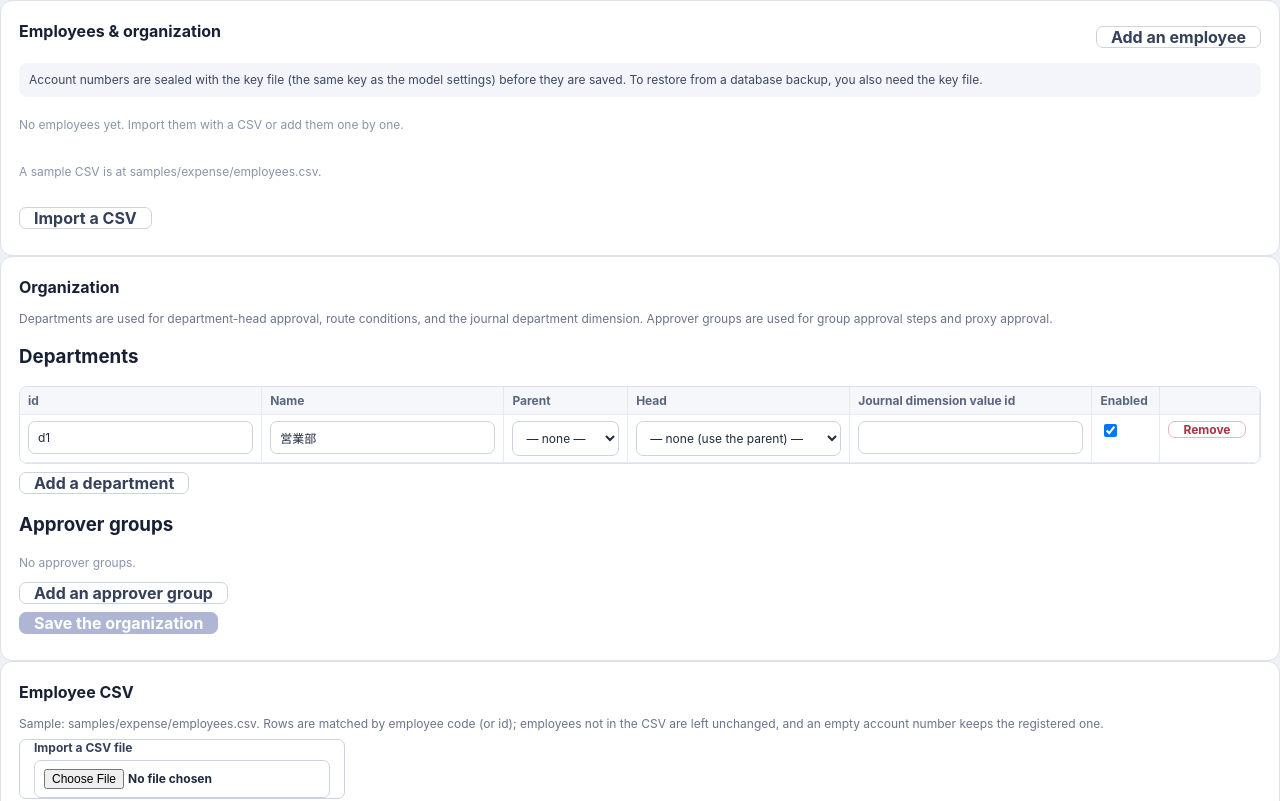
Test: EmployeesLedger › 正常: 新規登録は口座番号を送り、ハイフン・空白を外したことを見せ、保存後に変換後の名義と点検を見せる
This screenshot has width=1280, height=801.
Expected: the text "No employees yet. Import them with a CSV or add them one by one." is shown, top-left (19, 117), bottom-right (404, 132)
Click the button "Add an employee" at (1178, 37), box top-left (1096, 26), bottom-right (1261, 48)
(page scrolled)
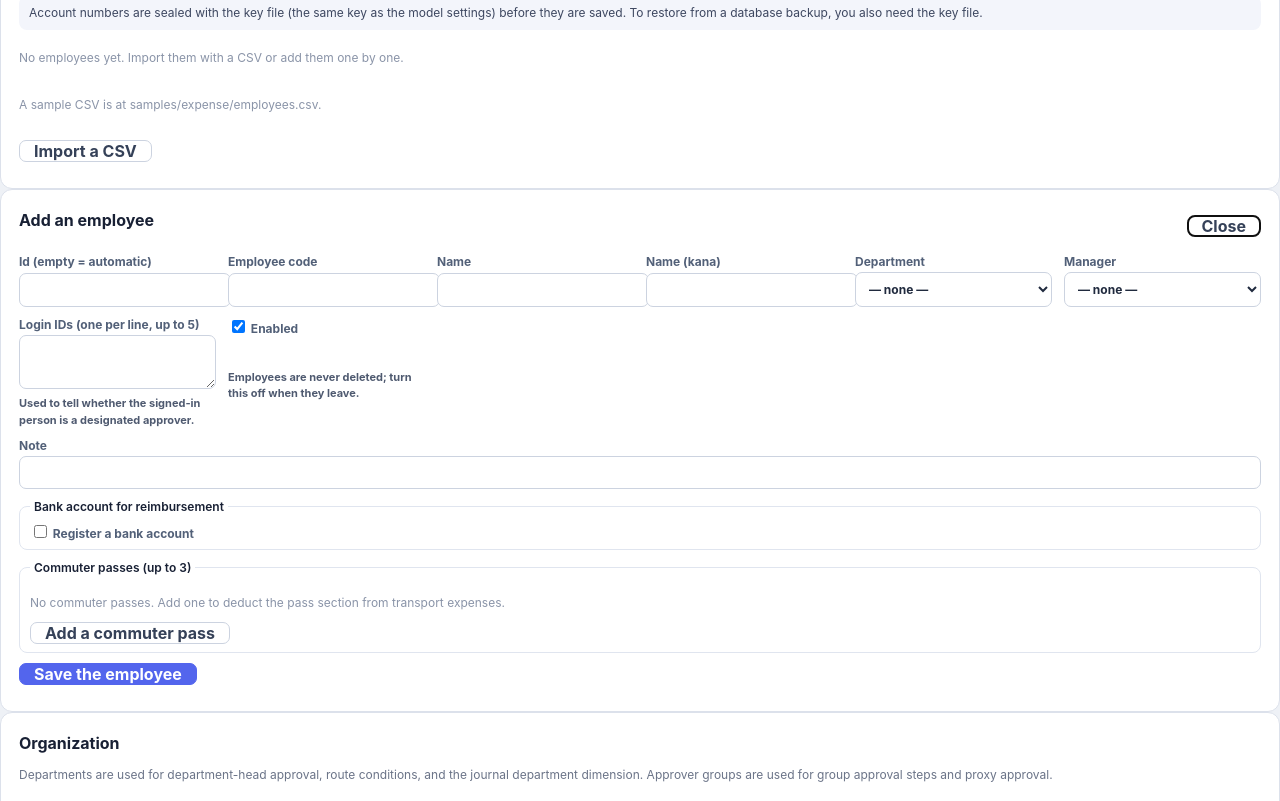
Type "テスト太郎" into the field labelled "Name" at (543, 290), box top-left (437, 273), bottom-right (649, 307)
Click the checkbox labelled "Register a bank account" at (40, 532), box top-left (34, 525), bottom-right (47, 538)
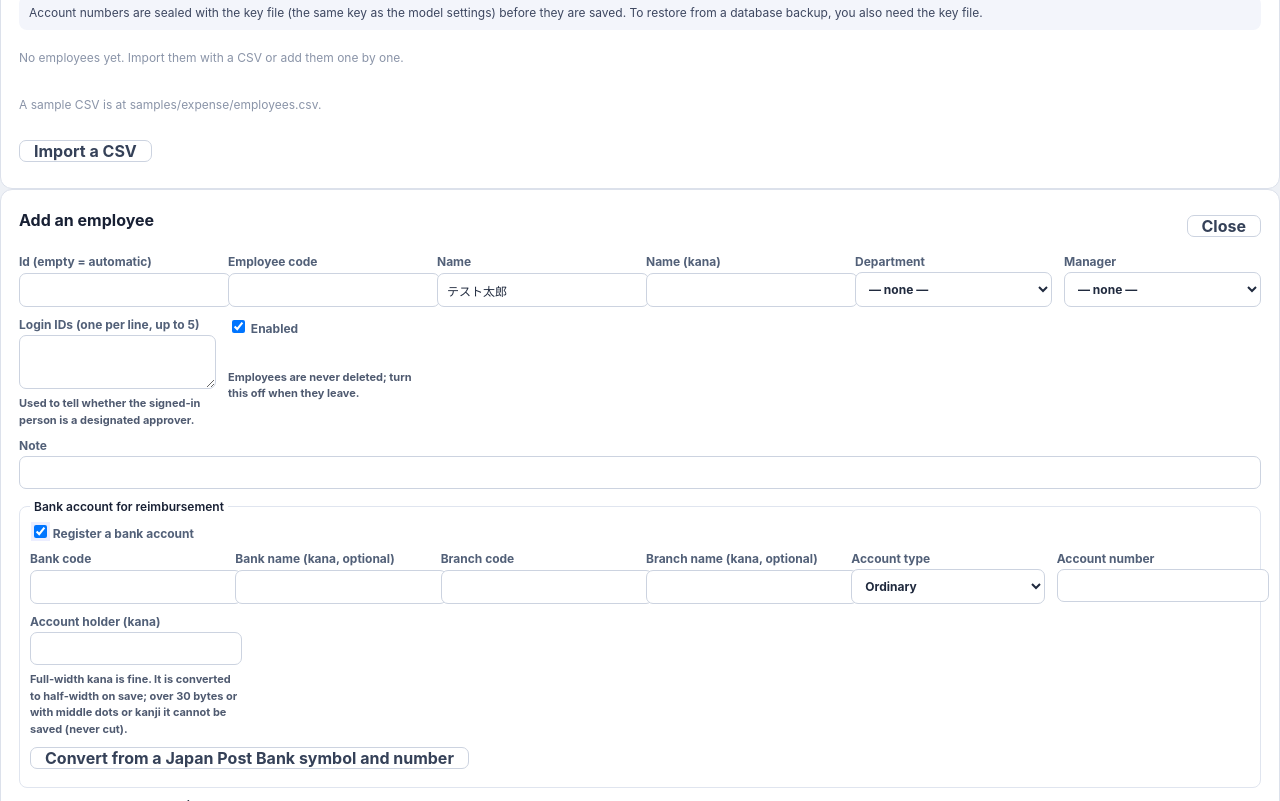
Type "0001" into the field labelled "Bank code" at (136, 587), box top-left (30, 570), bottom-right (242, 604)
Type "001" into the field labelled "Branch code" at (547, 587), box top-left (441, 570), bottom-right (653, 604)
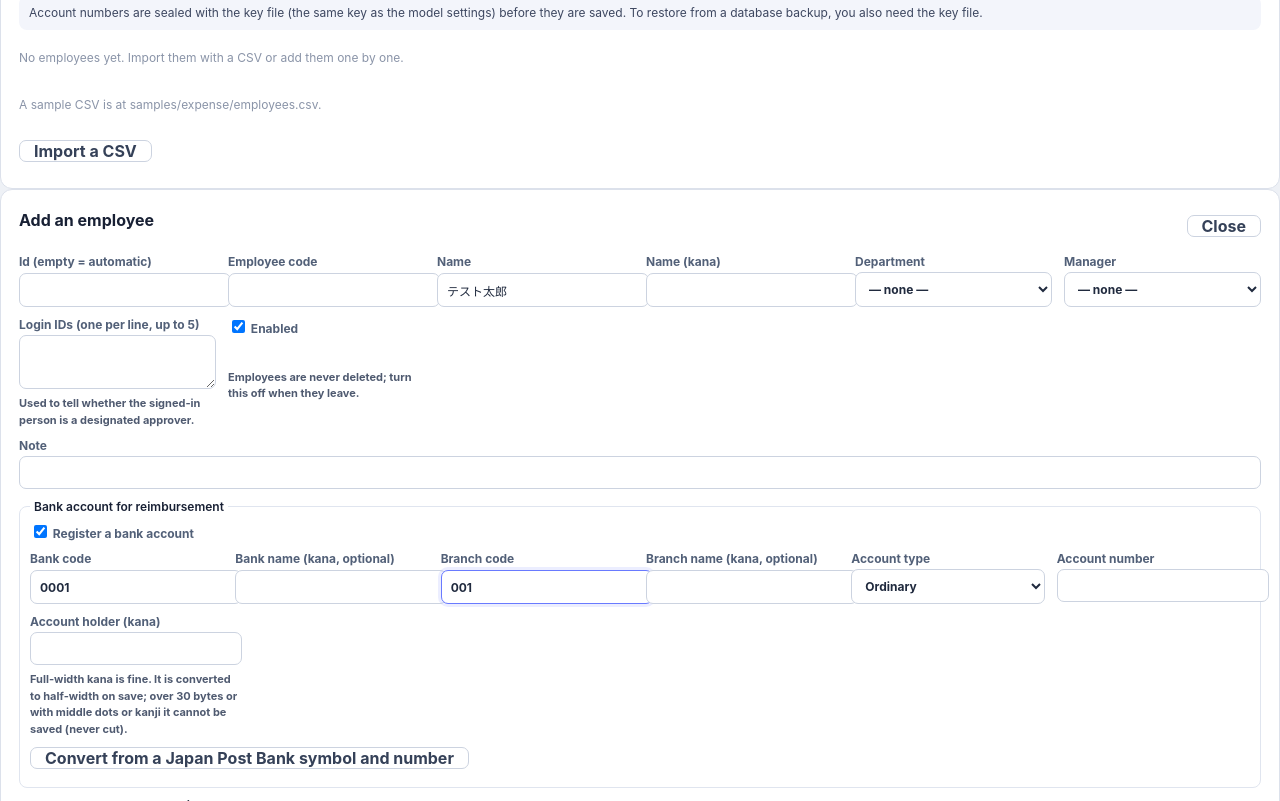
Type "123-4567" into the field labelled "Account number" at (1163, 586), box top-left (1057, 569), bottom-right (1269, 602)
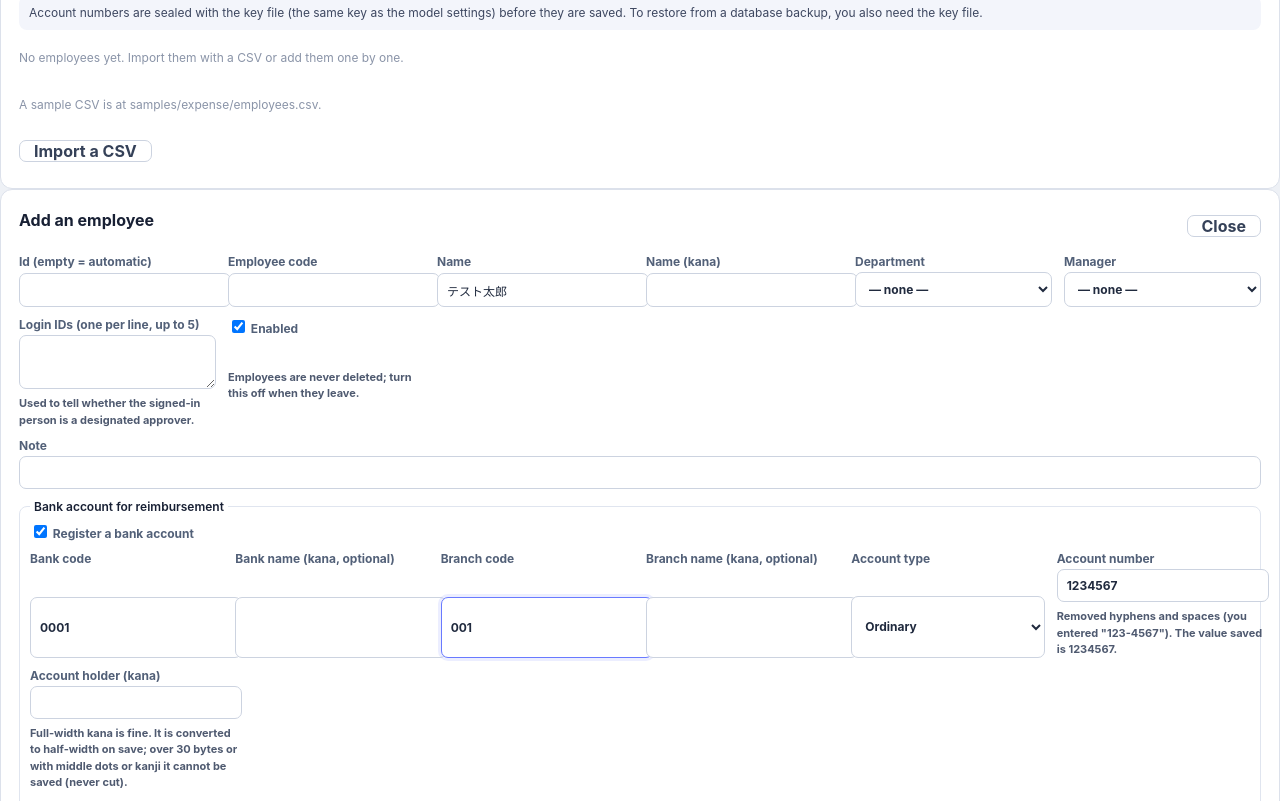
Result: the field labelled "Account number" holds "1234567" at top-left (1057, 569), bottom-right (1269, 602)
Result: the text "Removed hyphens and spaces (you entered \"123-4567\"). The value saved is 1234567." is shown at top-left (1057, 608), bottom-right (1269, 658)
Type "テスト タロウ" into the field labelled "Account holder (kana)" at (136, 702), box top-left (30, 686), bottom-right (242, 718)
(page scrolled)
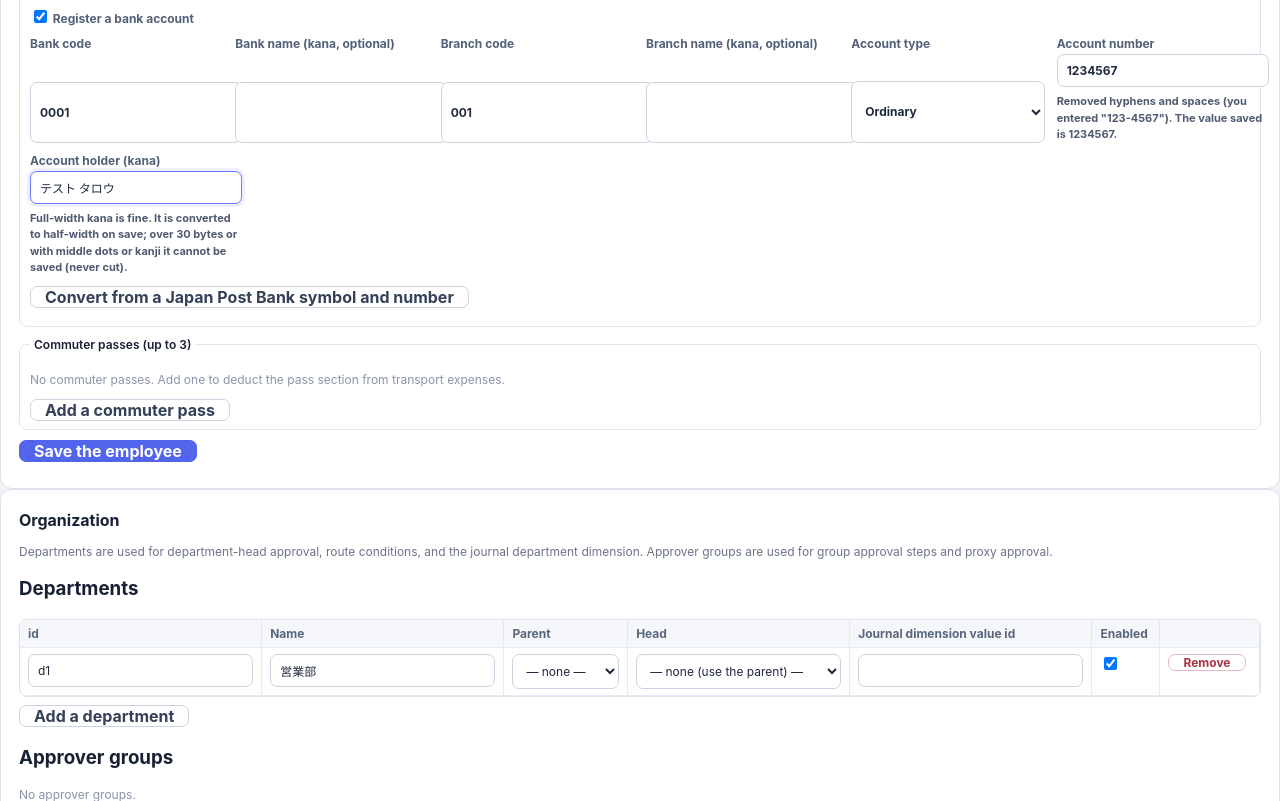
Click the button "Save the employee" at (108, 450), box top-left (19, 440), bottom-right (197, 462)
(page scrolled)
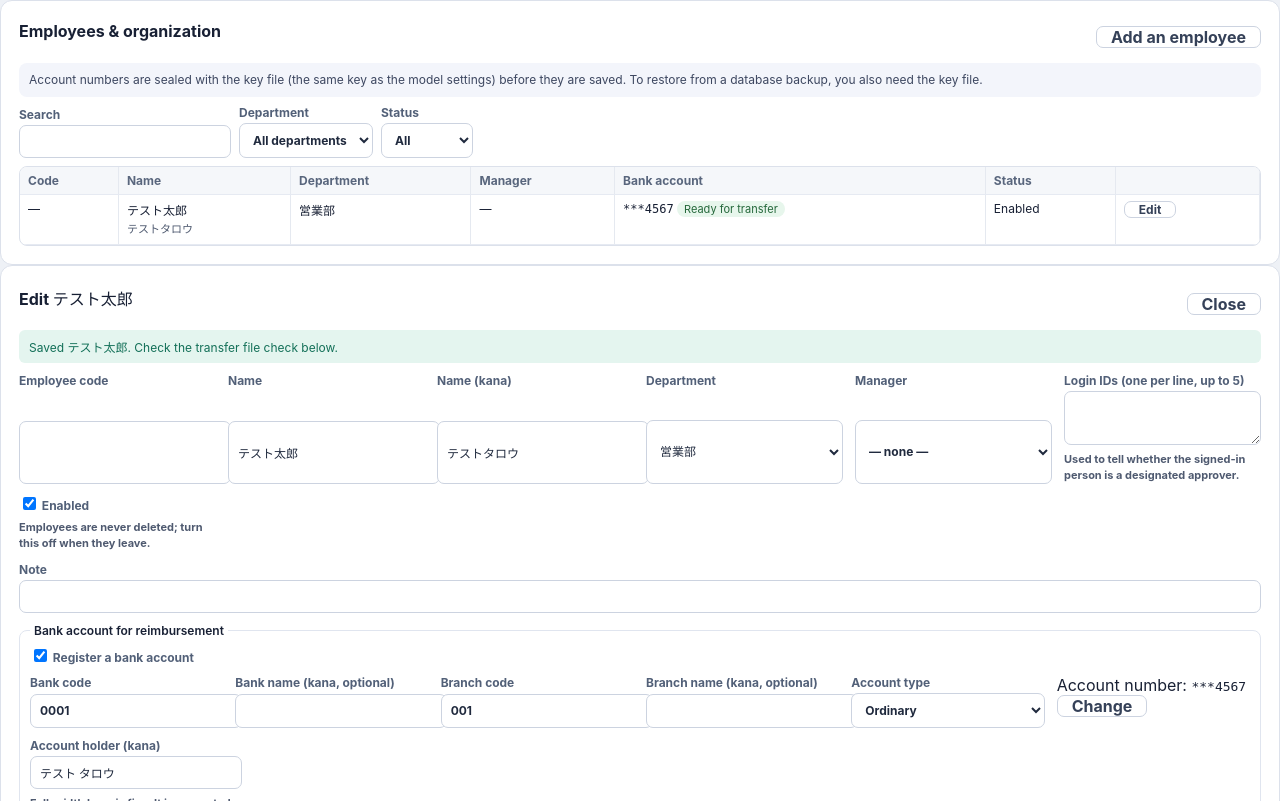
Result: the text "Saved テスト太郎. Check the transfer file check below." is shown at top-left (19, 330), bottom-right (1261, 362)
Result: the text "***4567" in the row of "Account type" is shown at top-left (1191, 678), bottom-right (1246, 694)
Result: the button with aria-label "Edit テスト太郎" is shown at top-left (1124, 201), bottom-right (1176, 218)
